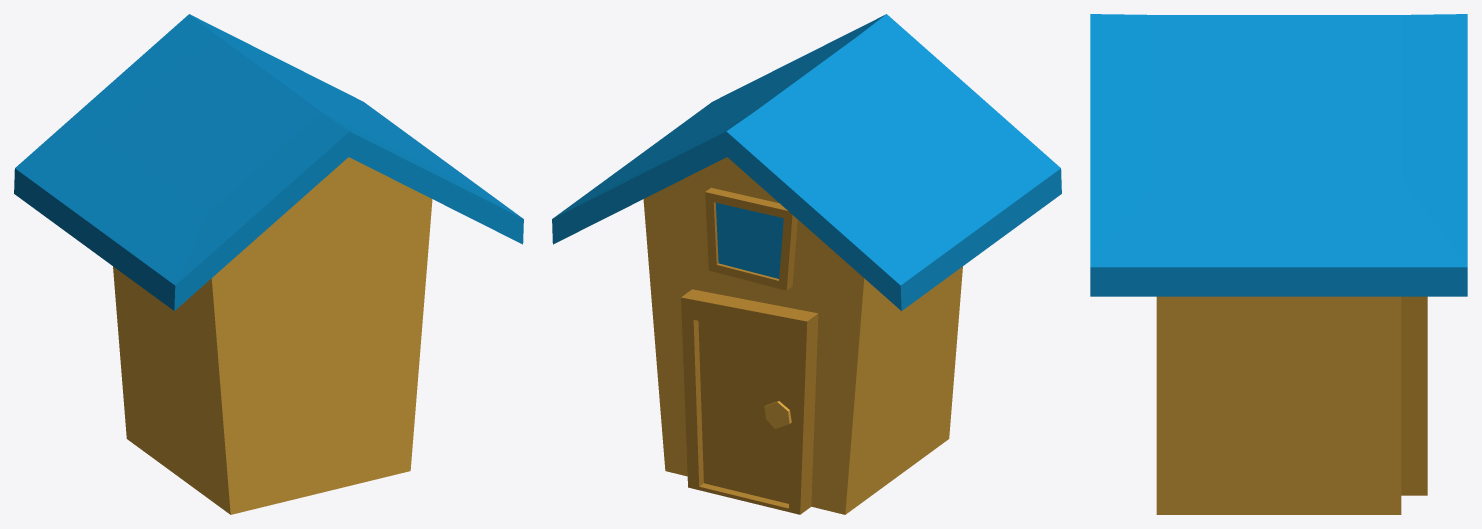
File: House1.fbx
The picture shows the model from 3 angles, left to right: view 1: azimuth 30°, elevation 25°; view 2: azimuth 150°, elevation 25°; view 3: azimuth 270°, elevation 25°; orthographic projection. The views are drawn at different scales.
Visible parts, largest first — view 1: Cube; view 2: Cube, Cube.001, Cube.002; view 3: Cube, Cube.001.
Part boxes in pixels (x1=…): Cube: x1=14, y1=14, x2=523, y2=514; Cube: x1=552, y1=14, x2=1061, y2=514; Cube.001: x1=681, y1=289, x2=818, y2=514; Cube.002: x1=705, y1=187, x2=797, y2=290; Cube: x1=1090, y1=14, x2=1467, y2=514; Cube.001: x1=1401, y1=296, x2=1427, y2=495.
Bounding box in the file's own units: 388 × 406 × 309.
